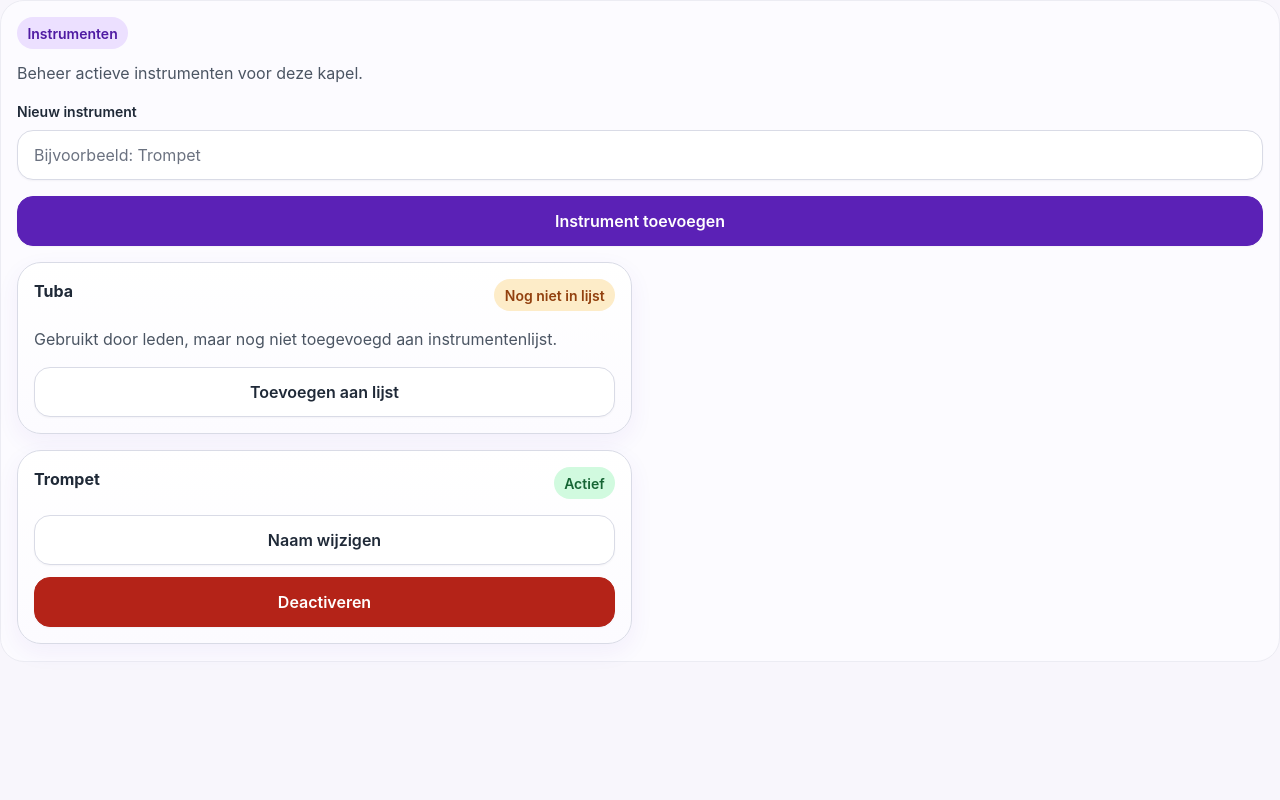
Test: BandInstrumentsSection › suggests member instruments that are missing from the list once
Expected: the text "Tuba" is shown, [34,279,73,303]
Expected: the text "Nog niet in lijst" is shown once, [494,279,615,311]
Click the button "Toevoegen aan lijst" at (324, 392), box [34,367,615,417]
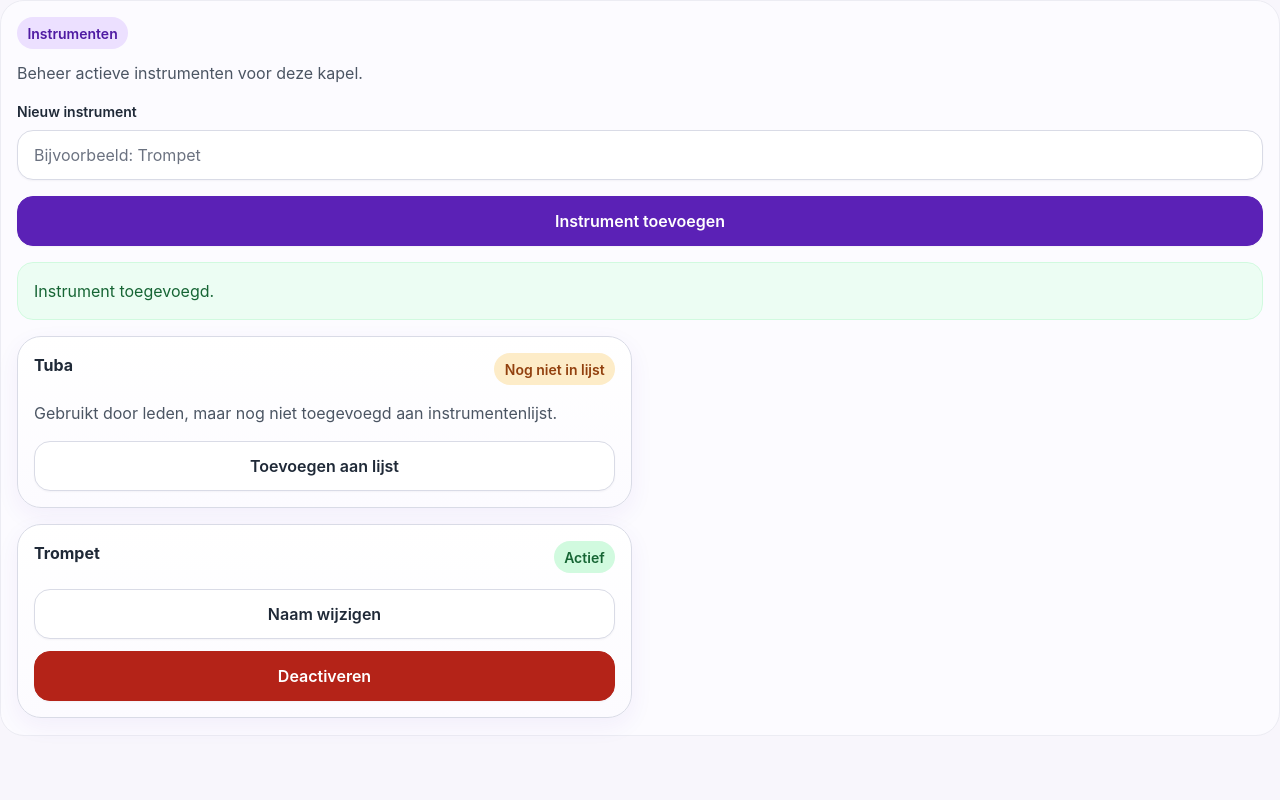
Expected: the text "Instrument toegevoegd." is shown, [17,262,1263,320]
